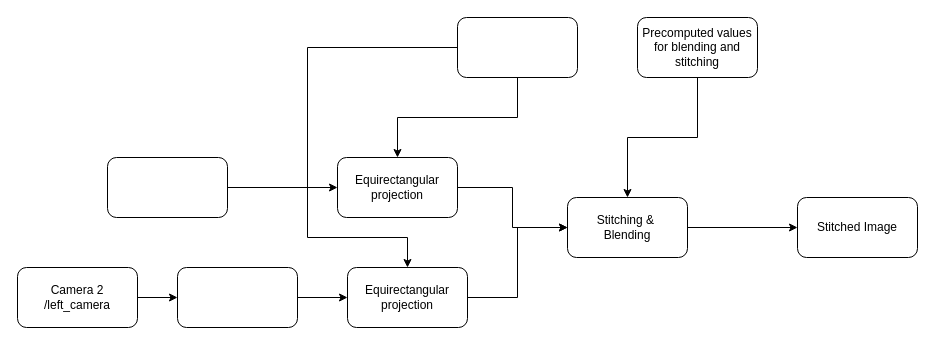
Some shapes in this 935 by 345 pixel diagram are drawn without their labels. Each missing label, with the centre of its shape:
180 degree rotation: (237,297)
Camera 1 /left_camera: (167,187)
Precomputed undistort mapping: (517,47)
